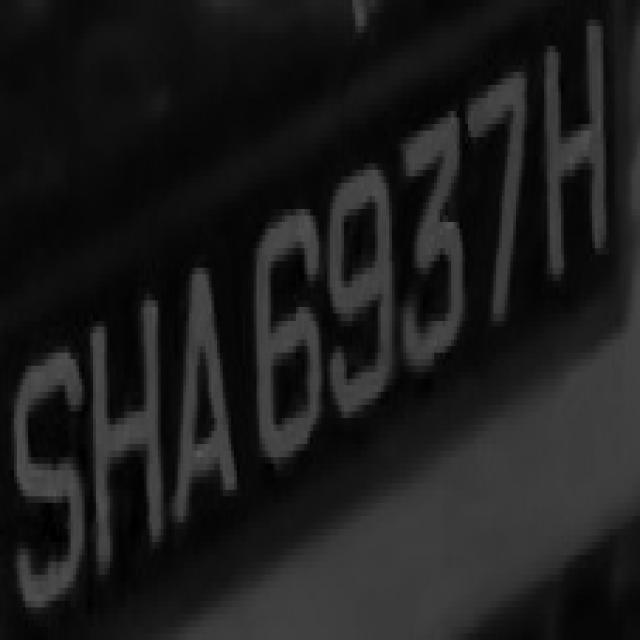3: (395, 117, 471, 392)
6: (242, 189, 324, 477)
7: (454, 85, 527, 359)
9: (316, 163, 403, 451)
A: (161, 248, 245, 529)
H: (533, 32, 620, 300), (82, 287, 166, 555)
S: (3, 333, 87, 634)
